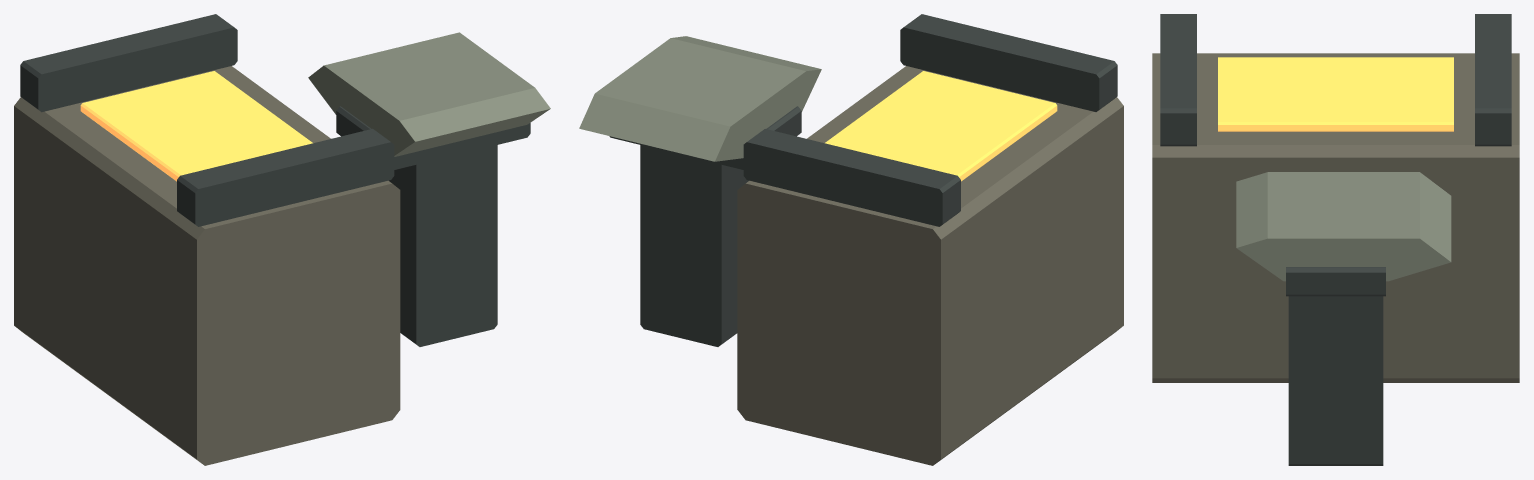
The model's file is Smithy.gltf.
3 views of the same model, side by side, from view 1: azimuth 30°, elevation 25°; view 2: azimuth 150°, elevation 25°; view 3: azimuth 270°, elevation 25° (orthographic).
Visible parts, largest first — view 1: Smithy; view 2: Smithy; view 3: Smithy.
Part boxes in pixels (x1,y1,x2,y2): Smithy: [14, 14, 550, 465]; Smithy: [579, 14, 1123, 465]; Smithy: [1152, 14, 1519, 465].
Bounding box in the file's own units: 0.885 × 0.58 × 0.7.
